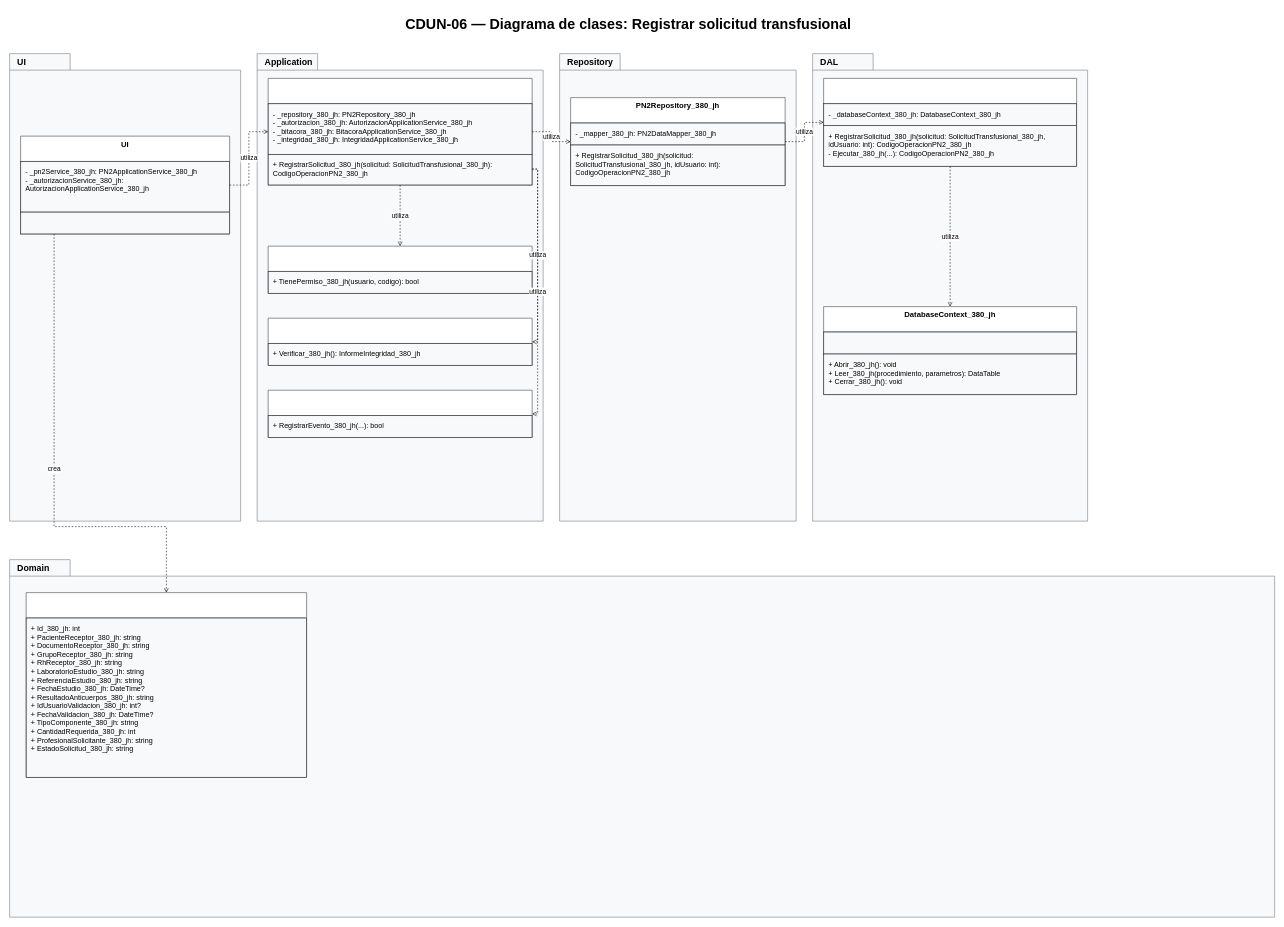
Image size: 1284x927. Some labels were removed from this diagram. Here are the shapes that lost their labels. From the top down, the box of each, then its label:
(268, 78, 532, 185): PN2ApplicationService_380_jh
(823, 78, 1077, 166): PN2DataMapper_380_jh
(20, 211, 230, 234): - Registrar_Click_380_jh(sender, e): void
(268, 246, 532, 293): AutorizacionApplicationService_380_jh
(268, 318, 532, 365): IntegridadApplicationService_380_jh
(823, 331, 1077, 354): + Conexion_380_jh: SqlConnection
(268, 390, 532, 438): BitacoraApplicationService_380_jh
(26, 592, 307, 777): SolicitudTransfusional_380_jh
